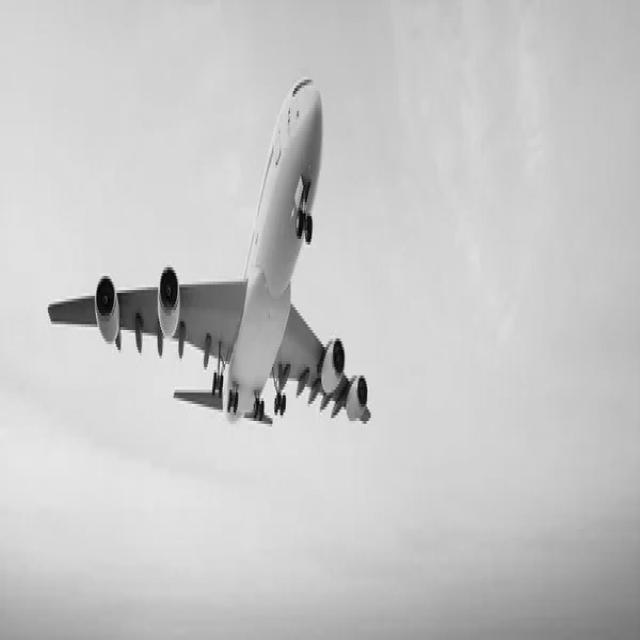Aircraft: (44, 63, 372, 442)
